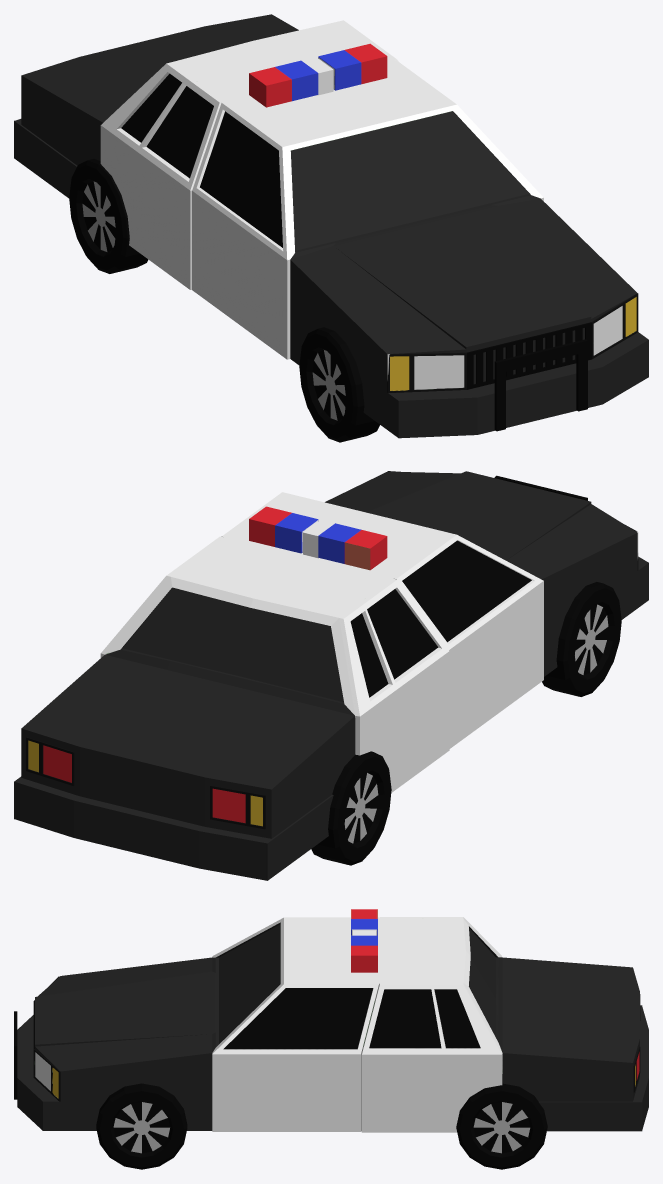
Rendered from policeCar.gltf.
3 renders of one model, top to bottom at view 1: azimuth 30°, elevation 25°; view 2: azimuth 150°, elevation 25°; view 3: azimuth 270°, elevation 25°, orthographic. The views are drawn at different scales.
Parts seen in each view (by area): view 1: body, rodadp.001, rodabk.001; view 2: body, rodadp.001, rodabk.001; view 3: body, rodadp, rodabk.
Boxes of the visible parts, box(x1,y1,x2,y2) form: body: box(14, 14, 648, 438); rodadp.001: box(299, 327, 379, 442); rodabk.001: box(69, 159, 148, 273); body: box(14, 471, 648, 880); rodadp.001: box(542, 582, 621, 696); rodabk.001: box(311, 751, 391, 865); body: box(14, 909, 648, 1132); rodadp: box(96, 1083, 187, 1169); rodabk: box(456, 1083, 547, 1169).
Bounding box in the file's own units: 2.38 × 1.99 × 6.16.
2 materials, 2 textured.
